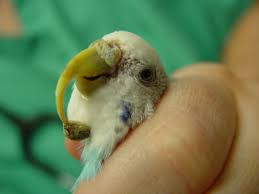budgie: (50, 24, 168, 139)
